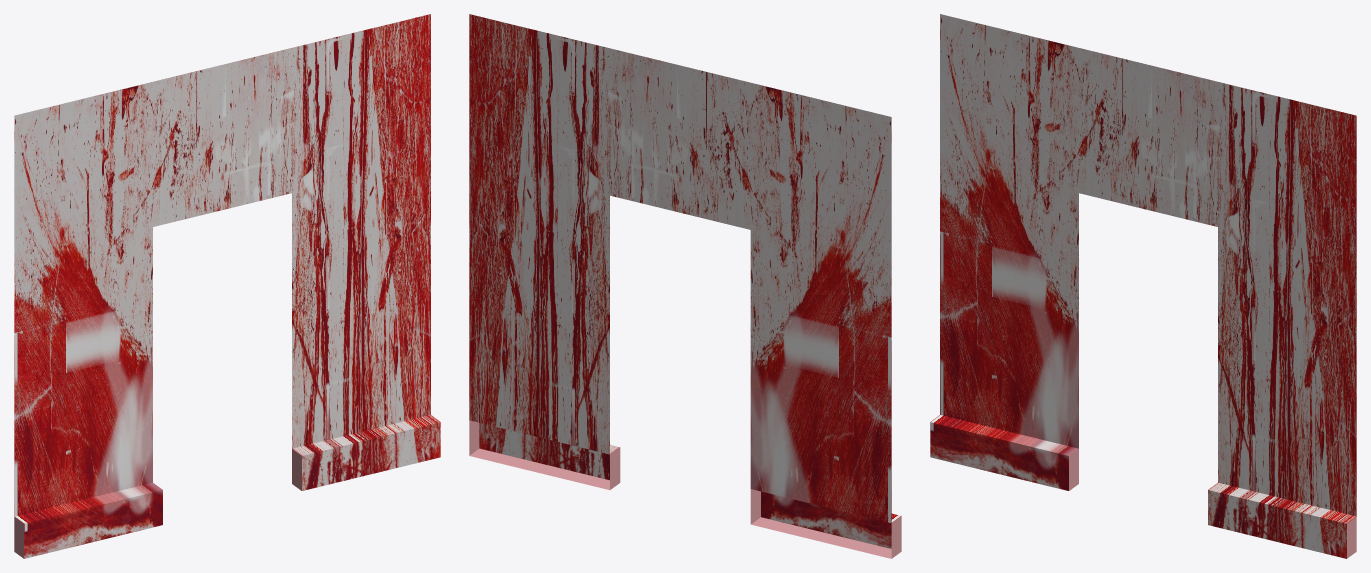
File: Marco_24.fbx
The picture shows the model from 3 angles, left to right: view 1: azimuth 30°, elevation 25°; view 2: azimuth 150°, elevation 25°; view 3: azimuth 330°, elevation 25°; orthographic projection.
Visible parts, largest first — view 1: Plane.033; view 2: Plane.033; view 3: Plane.033.
Boxes of the visible parts, bbox=[...] form: Plane.033: bbox=[14, 14, 440, 558]; Plane.033: bbox=[469, 14, 901, 558]; Plane.033: bbox=[930, 14, 1356, 558].
Size of the model in its own units: 600 by 600 by 24.87.
